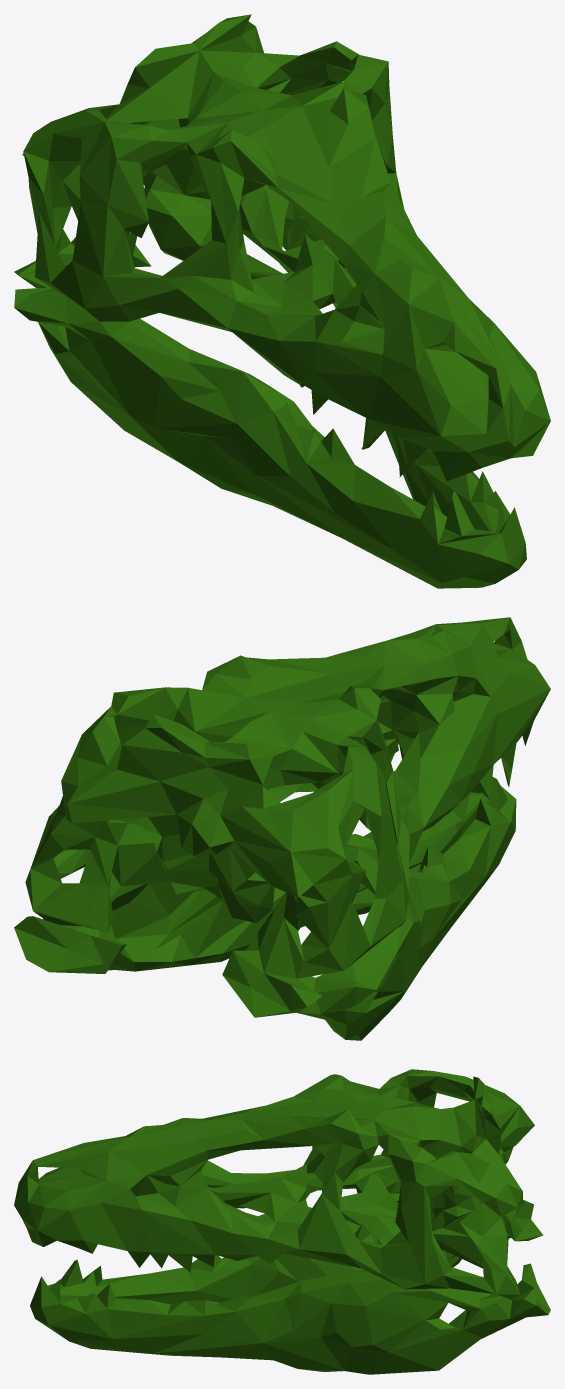
The model's file is SkeletonCrocoHead.fbx.
3 views of the same model, one above another, from view 1: azimuth 30°, elevation 25°; view 2: azimuth 150°, elevation 25°; view 3: azimuth 270°, elevation 25° (orthographic). The views are drawn at different scales.
Parts seen in each view (by area): view 1: SkeletonCrocoHead; view 2: SkeletonCrocoHead; view 3: SkeletonCrocoHead.
Part boxes in pixels (<box>): SkeletonCrocoHead: <box>14,14,550,588</box>; SkeletonCrocoHead: <box>14,617,550,1040</box>; SkeletonCrocoHead: <box>14,1069,550,1374</box>.
Size of the model in its own units: 133 by 126 by 238.
